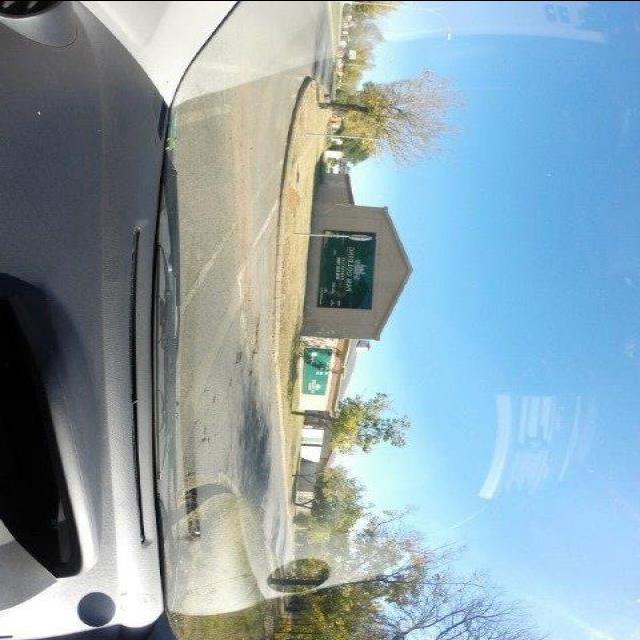jalan retak: (191, 384, 225, 458)
lubang: (228, 341, 262, 381), (247, 311, 260, 357)
